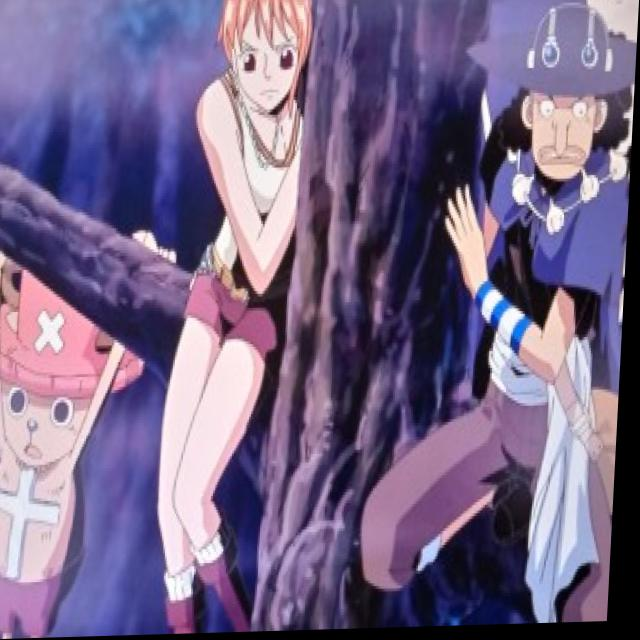Chyopa: (0, 247, 141, 640)
Nami: (211, 0, 316, 124)
Usopp: (498, 0, 620, 199)
